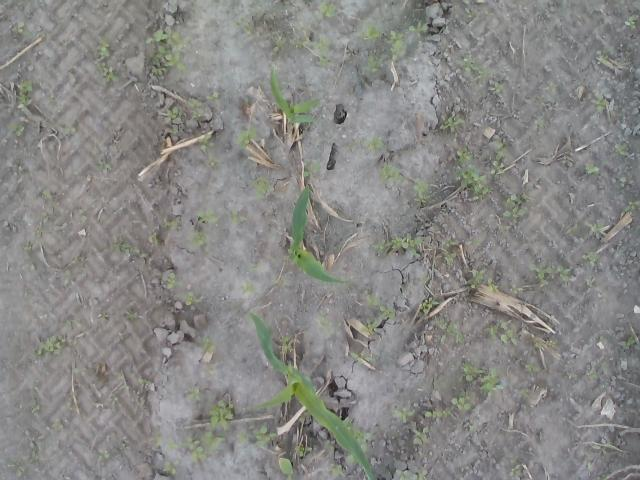Maize: (248, 312, 378, 480), (286, 184, 352, 284), (269, 67, 319, 125)
Weeds: (358, 17, 408, 73), (144, 28, 194, 78), (448, 145, 492, 194), (455, 360, 506, 397), (369, 231, 424, 258), (184, 432, 227, 464), (96, 32, 120, 82), (527, 260, 577, 282), (206, 399, 238, 432), (430, 316, 464, 346), (484, 319, 520, 346), (498, 192, 530, 220), (462, 53, 496, 79), (412, 177, 439, 207), (366, 294, 396, 321), (110, 239, 150, 258), (348, 426, 376, 453), (252, 423, 279, 451), (32, 336, 64, 359), (438, 110, 466, 136), (233, 126, 263, 150), (489, 140, 508, 176), (165, 104, 186, 136), (390, 400, 418, 424), (377, 159, 403, 184), (286, 30, 320, 49), (248, 176, 274, 200), (232, 15, 258, 38), (184, 97, 209, 120), (15, 78, 33, 108), (449, 391, 473, 411), (530, 334, 560, 350), (351, 350, 377, 368), (464, 269, 486, 290), (276, 455, 294, 480), (186, 228, 208, 248), (592, 88, 610, 112), (396, 467, 429, 480), (269, 31, 286, 56), (197, 132, 217, 153), (419, 294, 440, 314), (413, 426, 434, 446), (520, 358, 545, 374), (195, 208, 220, 224), (6, 117, 25, 138), (580, 245, 601, 264), (22, 442, 40, 464), (15, 16, 32, 39), (198, 334, 218, 353), (318, 317, 336, 338), (406, 20, 433, 34), (30, 384, 42, 415), (302, 158, 321, 177), (22, 254, 42, 272), (182, 288, 202, 306), (366, 134, 386, 152), (509, 454, 524, 477), (46, 95, 64, 114), (422, 407, 453, 418), (318, 38, 330, 65), (296, 445, 313, 464), (160, 271, 177, 290), (590, 222, 609, 239), (319, 0, 337, 17), (362, 320, 380, 337), (185, 384, 202, 401), (582, 160, 600, 176), (624, 195, 640, 212), (623, 14, 640, 30), (487, 278, 504, 294), (512, 384, 530, 399), (624, 333, 640, 349), (96, 448, 112, 464), (544, 80, 560, 96), (225, 208, 241, 224), (329, 462, 346, 477), (239, 280, 256, 295), (560, 223, 578, 236), (244, 262, 266, 272), (534, 112, 546, 130), (49, 418, 64, 432), (161, 217, 177, 230), (95, 159, 112, 171), (280, 335, 292, 352), (62, 125, 80, 136), (162, 462, 176, 476), (596, 50, 610, 64), (22, 240, 34, 256), (206, 153, 218, 169), (62, 269, 72, 288), (32, 225, 46, 238), (443, 251, 457, 264), (614, 351, 624, 369), (62, 319, 80, 329), (126, 311, 144, 321), (463, 6, 478, 18), (418, 272, 431, 285), (36, 210, 50, 222), (146, 234, 160, 246), (564, 371, 582, 380), (207, 360, 217, 376), (586, 369, 598, 382), (613, 143, 625, 156), (152, 432, 161, 448), (80, 208, 88, 226), (492, 80, 504, 92), (15, 463, 26, 476), (584, 271, 592, 288), (206, 90, 219, 100), (442, 240, 458, 248), (612, 0, 626, 9), (238, 433, 248, 445), (134, 374, 146, 384), (42, 190, 54, 200), (270, 278, 281, 288), (323, 439, 335, 448), (110, 392, 120, 402), (70, 367, 81, 376), (166, 440, 178, 448), (469, 239, 481, 247), (98, 312, 109, 320), (266, 143, 274, 154), (466, 424, 476, 432), (36, 31, 46, 38), (575, 80, 579, 96), (243, 96, 253, 102), (600, 384, 608, 391), (600, 159, 608, 166), (121, 384, 128, 390), (297, 266, 302, 272)
